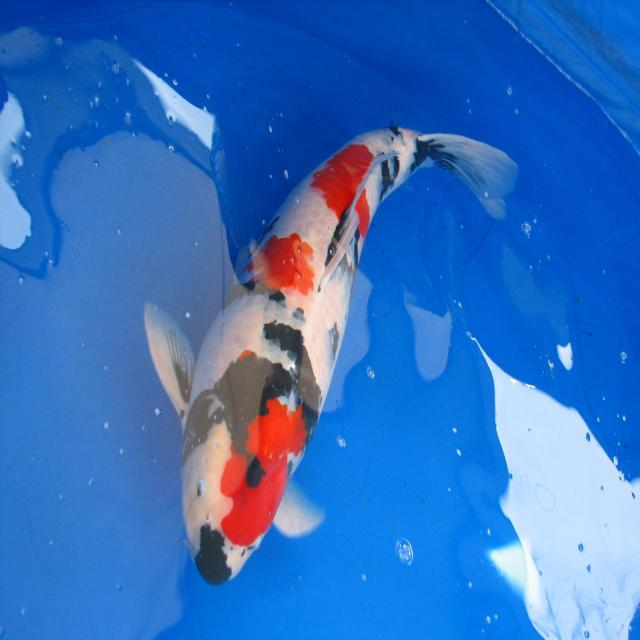Showa: (142, 121, 520, 586)
